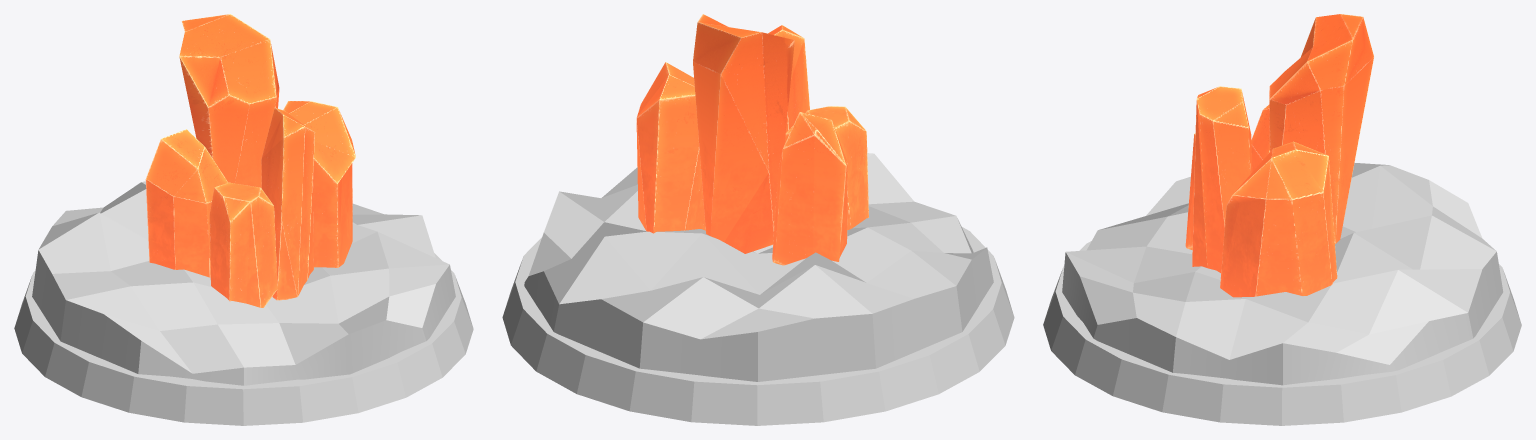
The picture shows the model from 3 angles, left to right: view 1: azimuth 30°, elevation 25°; view 2: azimuth 150°, elevation 25°; view 3: azimuth 270°, elevation 25°; orthographic projection. The views are drawn at different scales.
Parts seen in each view (by area): view 1: 7_zemin, 7.1; view 2: 7_zemin, 7.1; view 3: 7_zemin, 7.1.
Part boxes in pixels (box(x1,y1,x2,y2)): 7_zemin: box(14, 181, 473, 425); 7.1: box(145, 14, 355, 307); 7_zemin: box(502, 153, 1014, 425); 7.1: box(636, 14, 868, 265); 7_zemin: box(1043, 163, 1521, 425); 7.1: box(1185, 14, 1373, 297).
Size of the model in its own units: 936 by 641 by 939.
